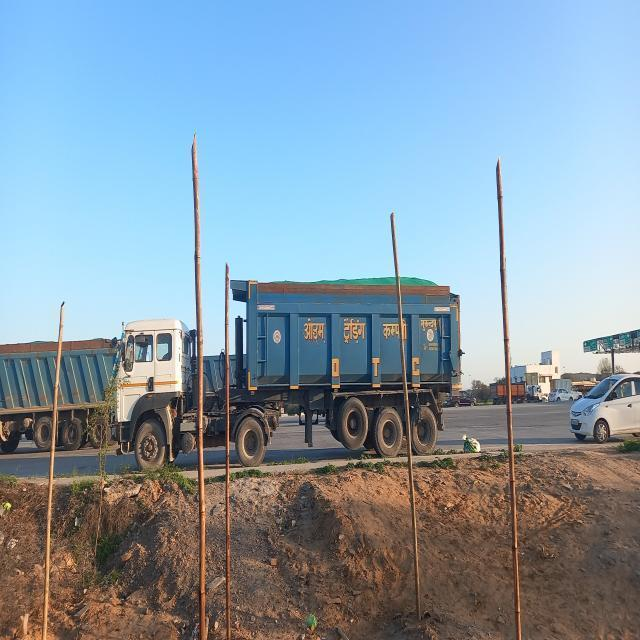uncovered: (229, 266, 462, 451), (0, 336, 109, 452)
